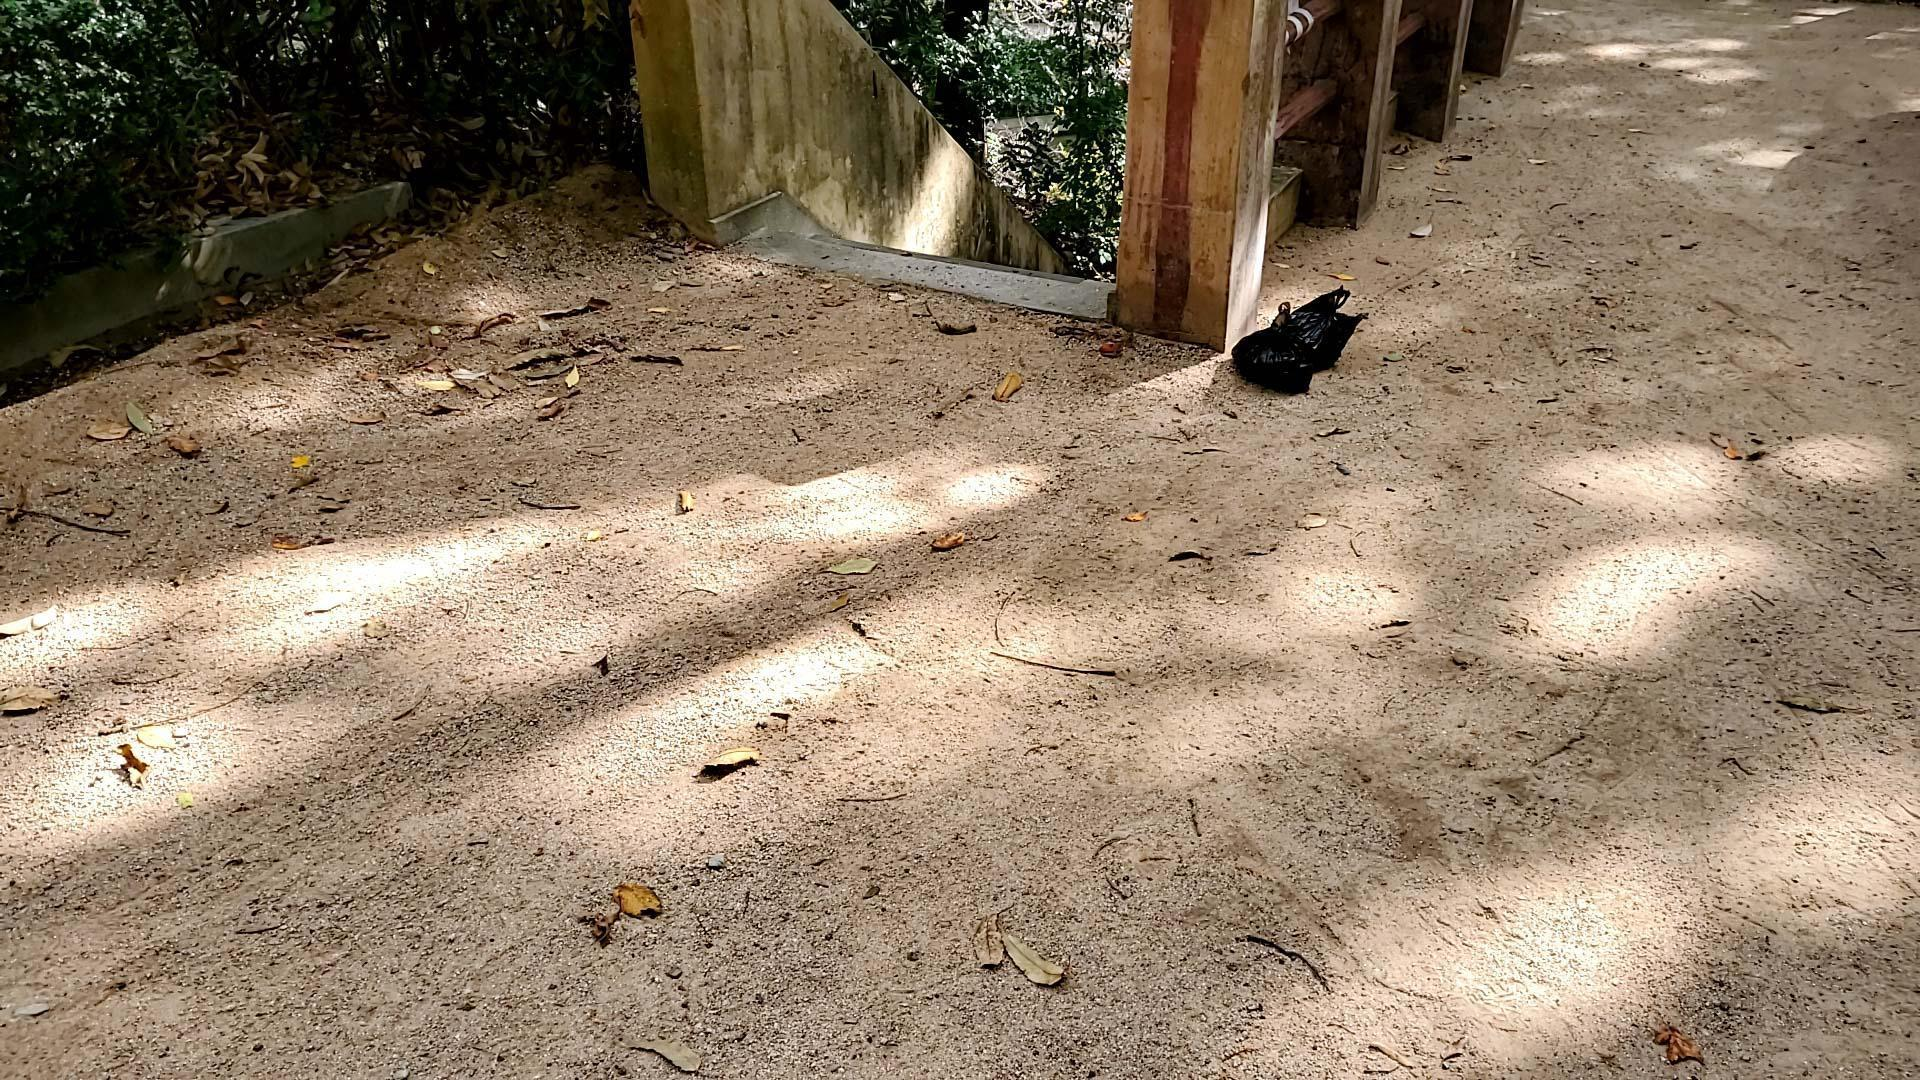black_bag: (1226, 301, 1327, 400), (1284, 282, 1370, 375)
